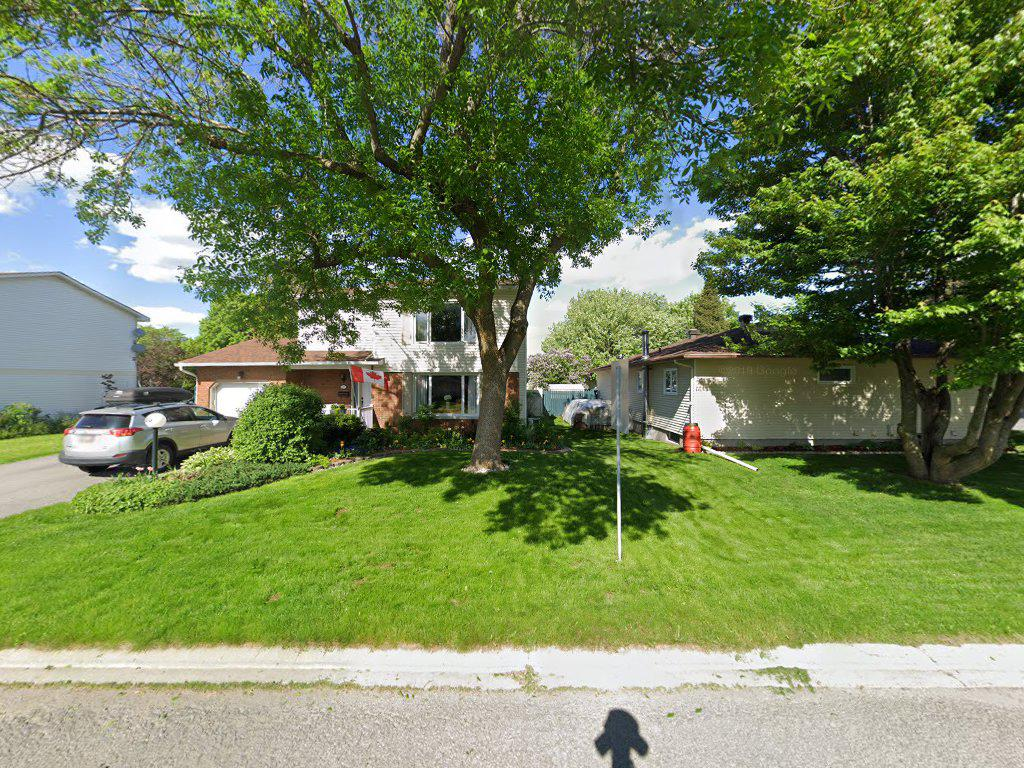trunk: (895, 354, 1020, 501), (468, 279, 521, 491)
